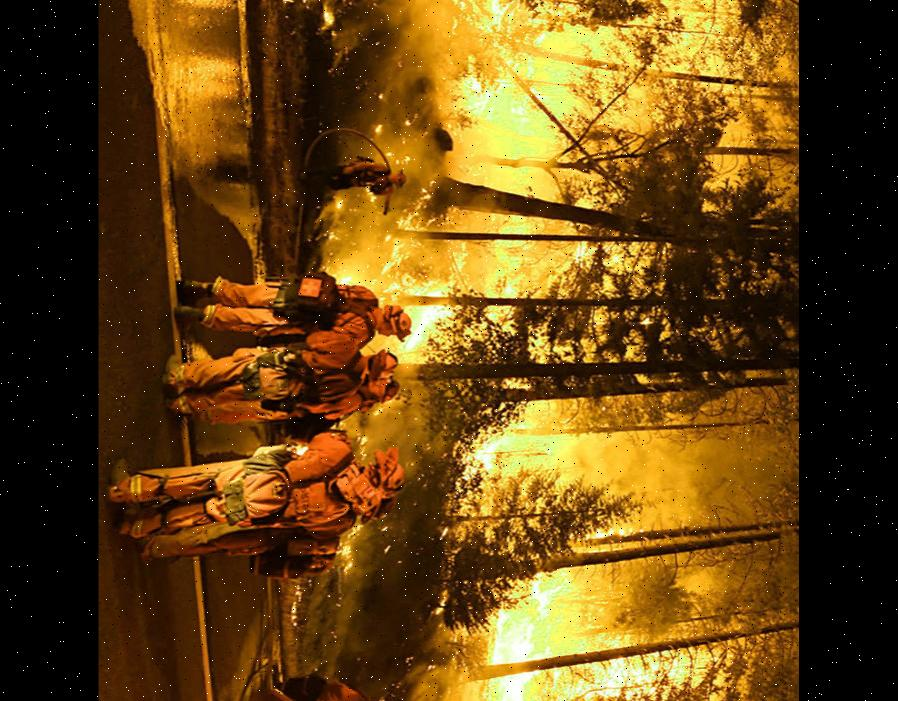fire: (418, 0, 783, 701), (264, 0, 404, 291)
